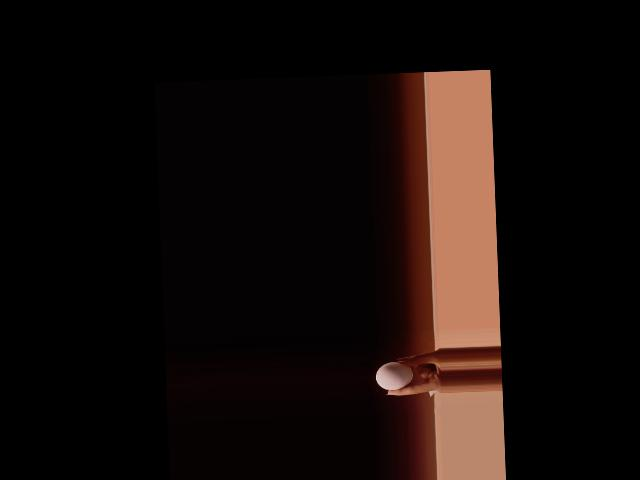egg: (375, 360, 414, 390)
